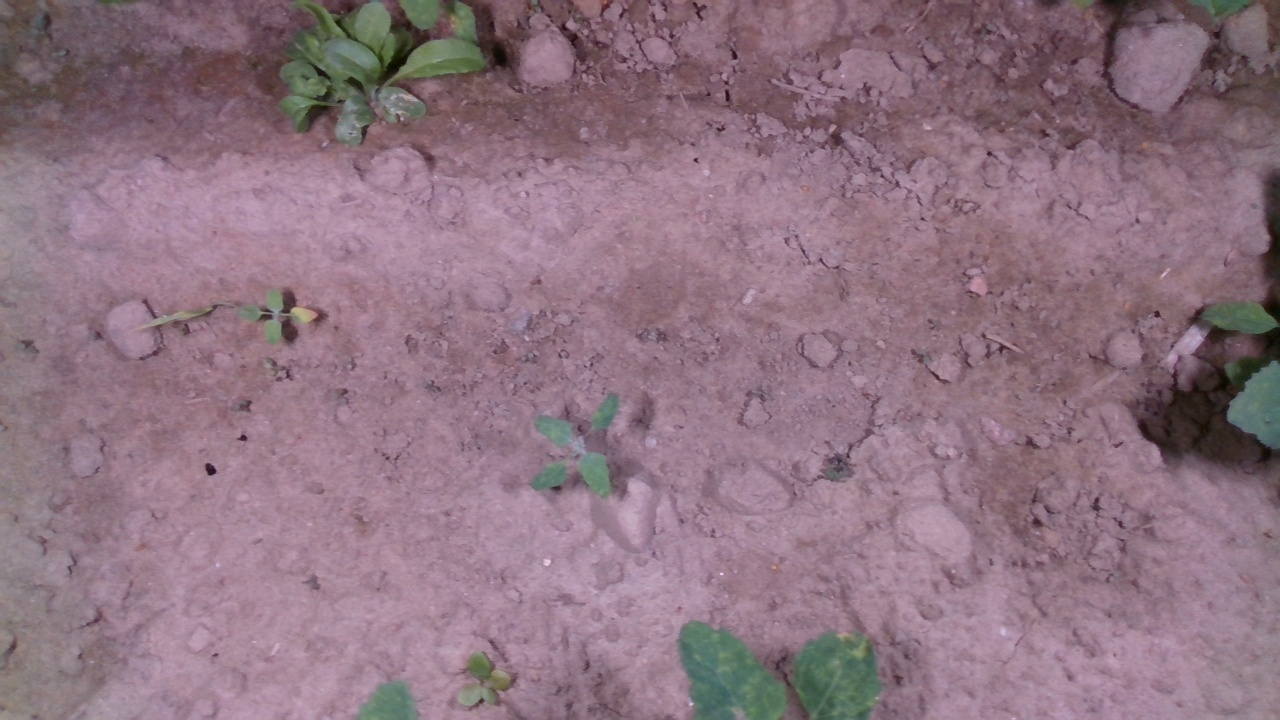weed: (239, 285, 316, 349)
